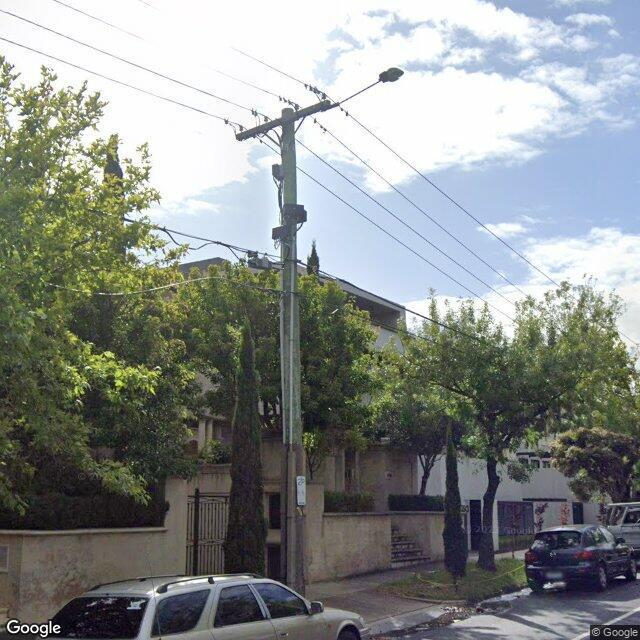crossarm: (236, 100, 331, 140)
streetlight: (330, 68, 404, 109)
timber-pole: (280, 107, 304, 598)
